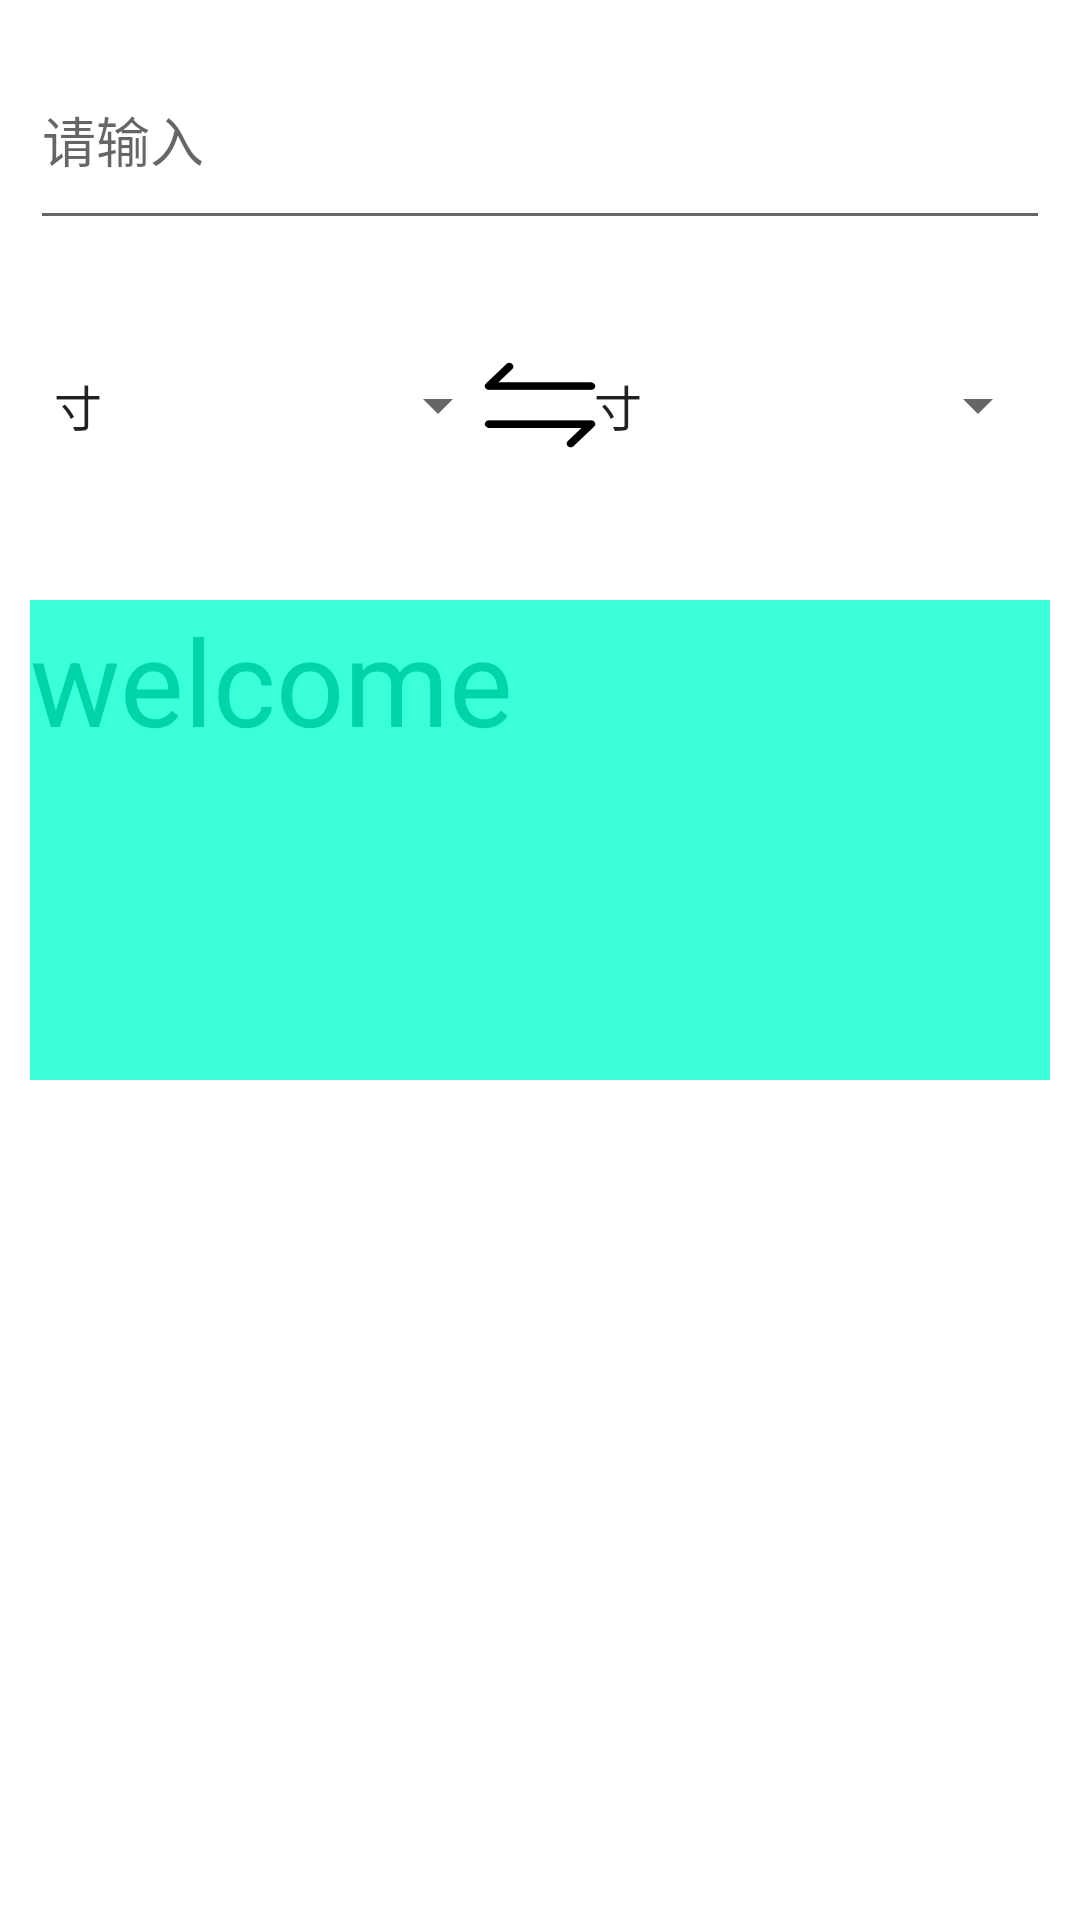

Where to tap for icons on this 1080×1920 app screen, as point (x, y):
change: point (540, 405)
